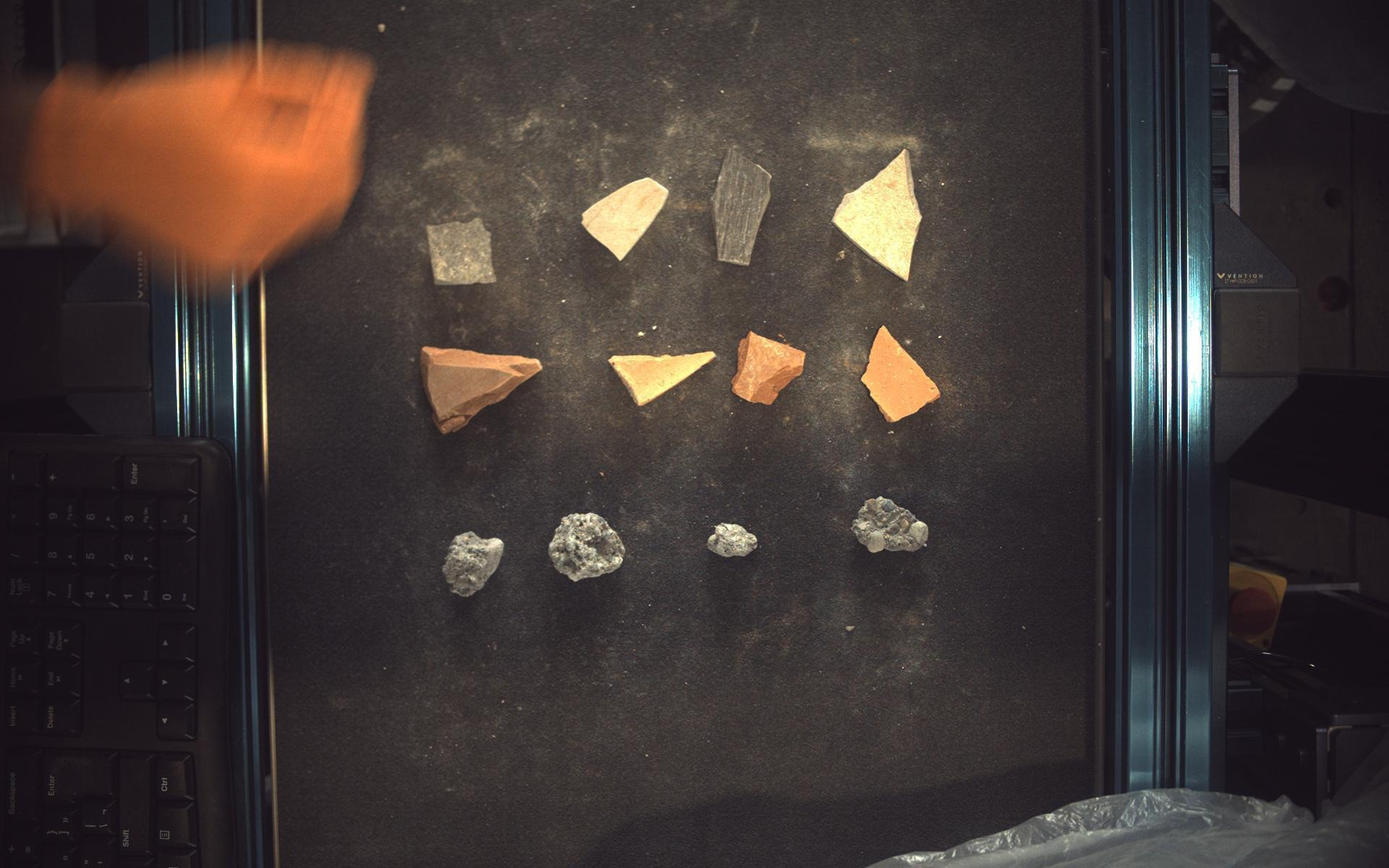brick: (420, 346, 543, 434), (863, 326, 942, 422), (609, 351, 716, 406), (734, 331, 807, 404)
concrete: (549, 514, 625, 582), (854, 496, 930, 553), (442, 532, 504, 597), (709, 524, 759, 558)
tile: (834, 148, 923, 279), (583, 177, 668, 260), (713, 148, 773, 265), (427, 219, 496, 284)
